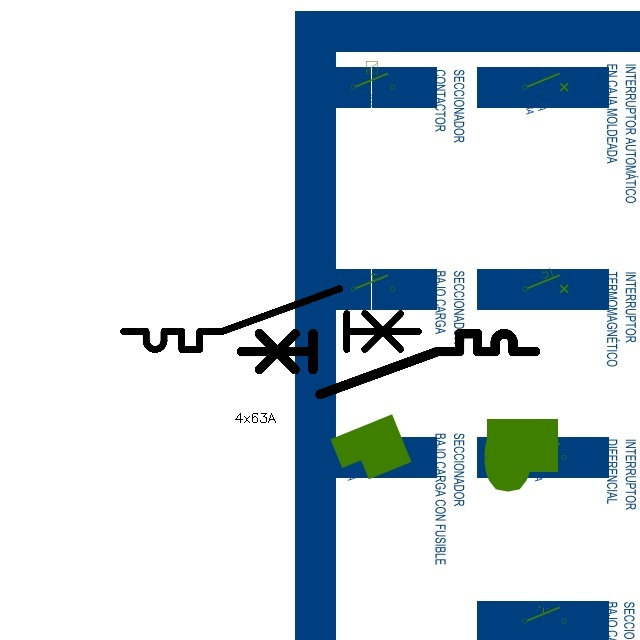interruptor_termomagnetico: (116, 281, 426, 357), (234, 326, 543, 401)
